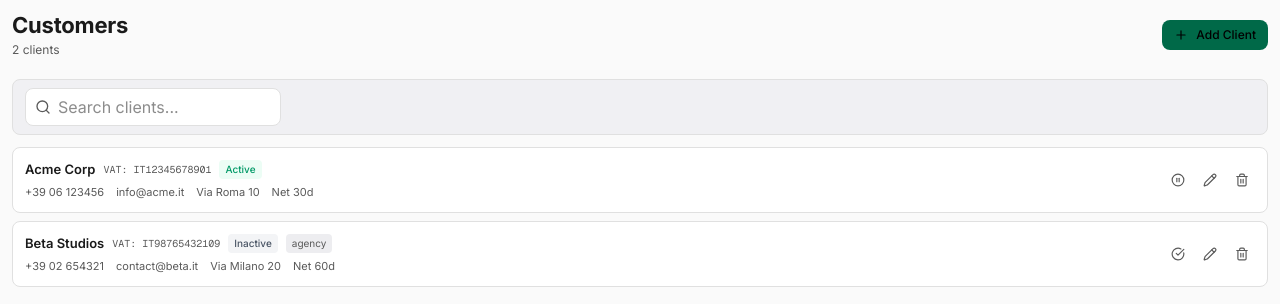
Scenario: ClientScreen › search filters clients by name
Expected: the text "Acme Corp" is shown, [25, 160, 95, 180]
Type "Acme" into the field with placeholder "Search clients...".
click(153, 107); type("Acme")  # box [25, 88, 281, 126]
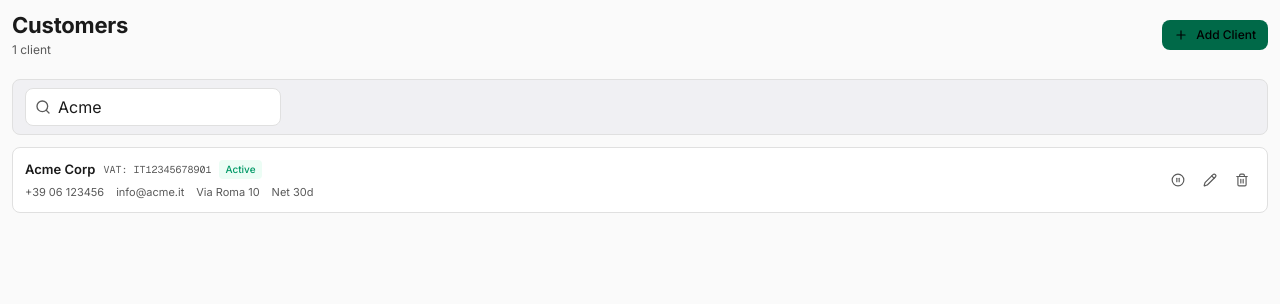
Expected: the text "Acme Corp" is shown, [25, 160, 95, 180]
Now the text "Beta Studios" is gone
